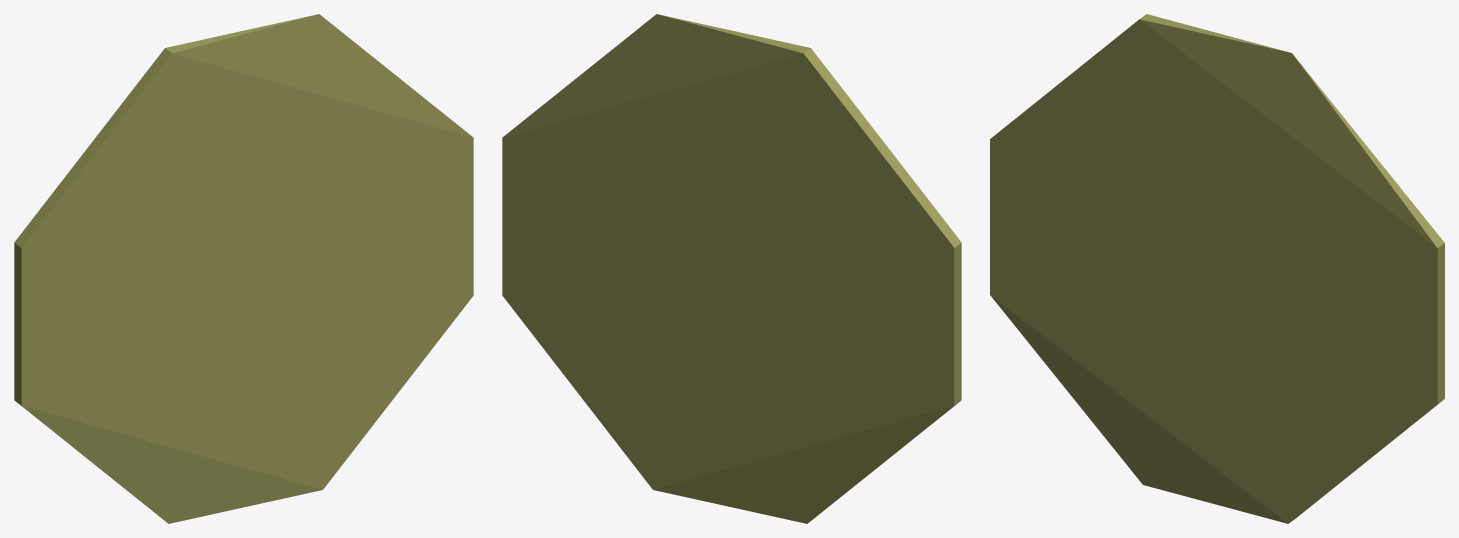
The model's file is OBJ_Greg the stop sign (90x90).obj.
The picture shows the model from 3 angles, left to right: view 1: azimuth 30°, elevation 25°; view 2: azimuth 150°, elevation 25°; view 3: azimuth 330°, elevation 25°; orthographic projection.
Size of the model in its own units: 353 by 353 by 10.
